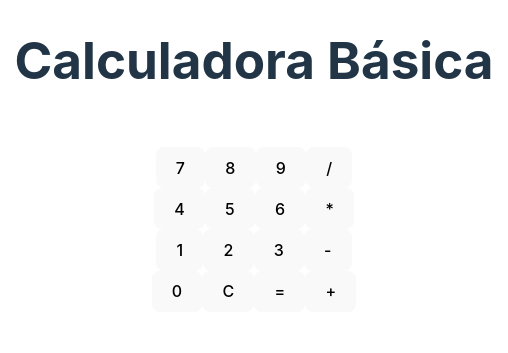
Scenario: Calculadora Básica › realiza una suma correctamente
The width and height of the screenshot is (508, 353).
Step 1. Click the button "1" → point(180, 250), box left=156, top=230, right=203, bottom=271
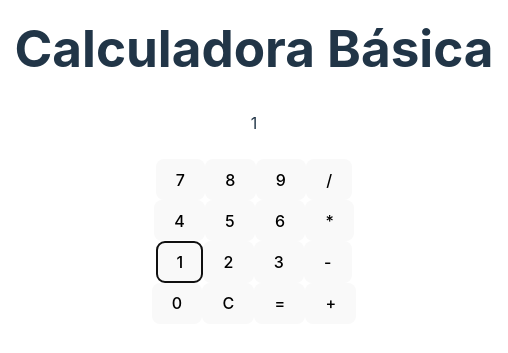
Step 2. Click the button "+" → point(331, 303), box left=305, top=283, right=356, bottom=324
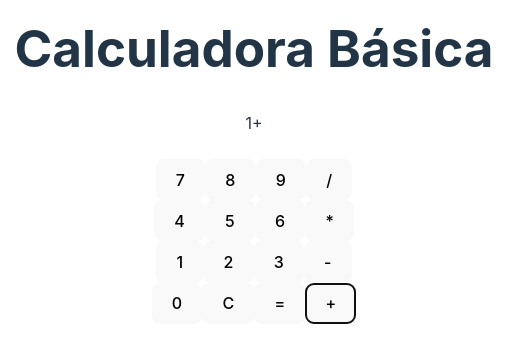
Step 3. Click the button "2" → point(228, 262), box left=203, top=242, right=254, bottom=283
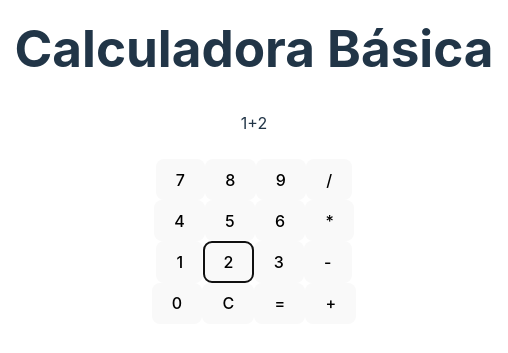
Step 4. Click the button "=" → point(280, 303), box left=254, top=283, right=305, bottom=324
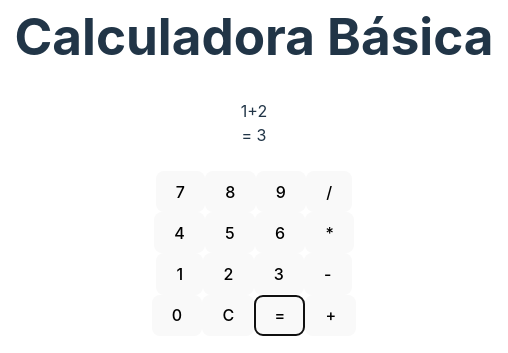
expect the text "= 3" is shown: met, box left=242, top=125, right=266, bottom=145
